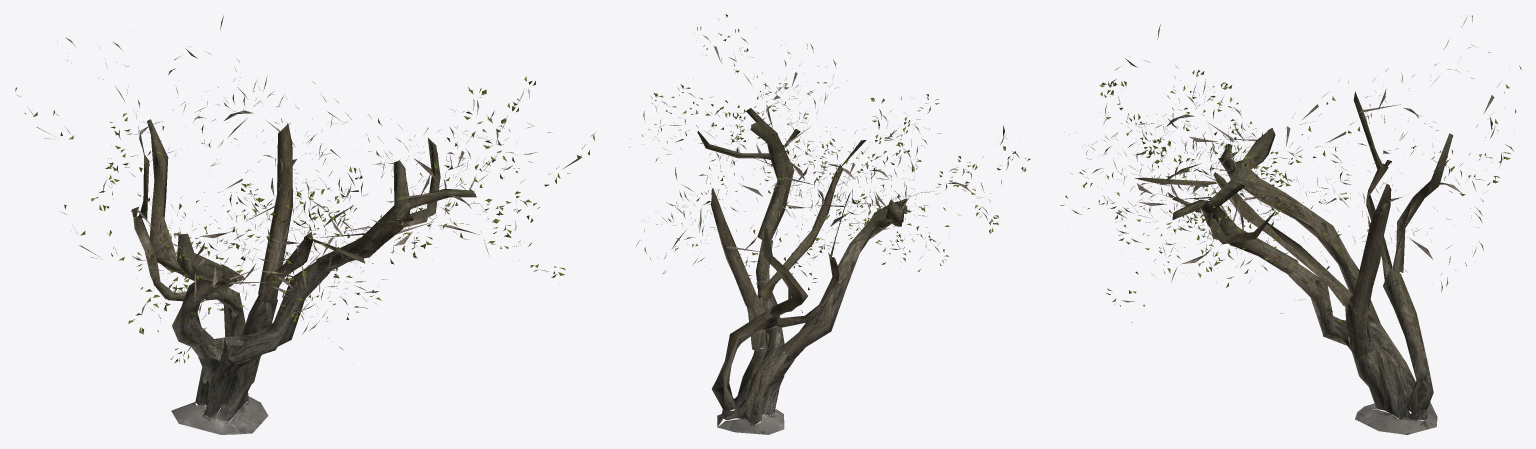
Rendered from VG_TreeA.glb.
The picture shows the model from 3 angles, left to right: view 1: azimuth 30°, elevation 25°; view 2: azimuth 150°, elevation 25°; view 3: azimuth 270°, elevation 25°; orthographic projection. The views are drawn at different scales.
Parts seen in each view (by area): view 1: island_tree_02_LOD0; view 2: island_tree_02_LOD0; view 3: island_tree_02_LOD0.
Boxes of the visible parts, x1,y1,x2,y2 form: island_tree_02_LOD0: (15, 15, 595, 434); island_tree_02_LOD0: (629, 14, 1030, 434); island_tree_02_LOD0: (1060, 15, 1521, 434).
Bounding box in the file's own units: 3.72 × 3.33 × 3.91.
3 materials, 3 textured.
